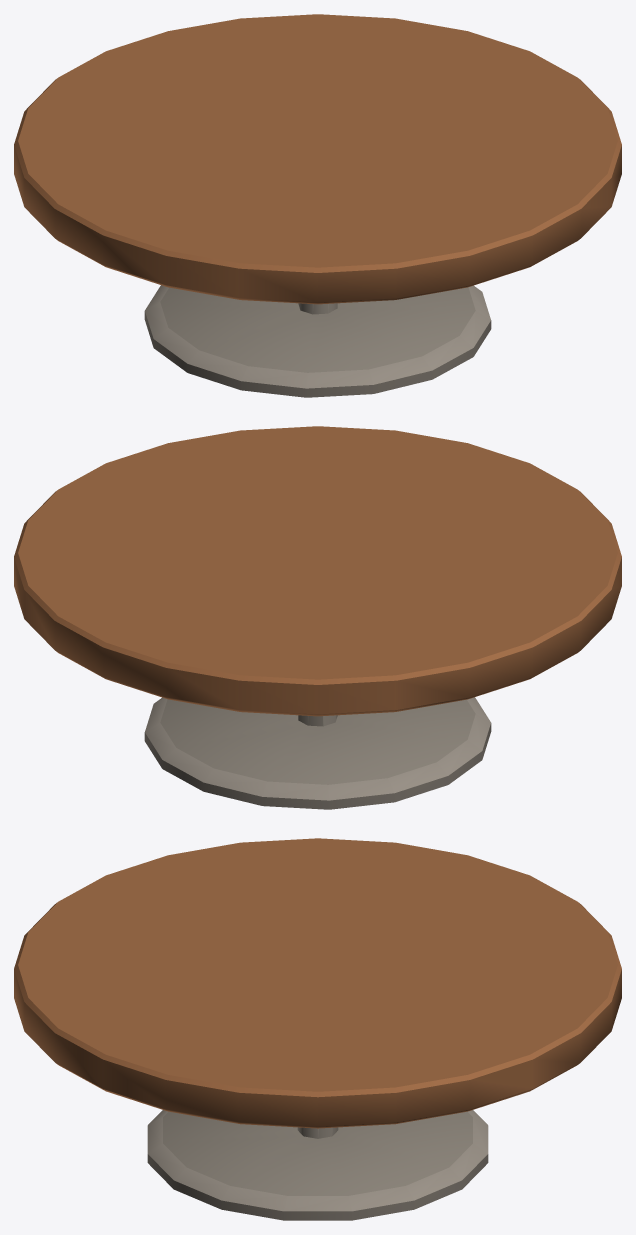
The model's file is kaykit_restaurant_table_round_a.glb.
The picture shows the model from 3 angles, top to bottom: view 1: azimuth 30°, elevation 25°; view 2: azimuth 150°, elevation 25°; view 3: azimuth 270°, elevation 25°; orthographic projection.
Parts seen in each view (by area): view 1: wood, stone; view 2: wood, stone; view 3: wood, stone.
Boxes of the visible parts, x1,y1,x2,y2 form: wood: (14,14,621,304); stone: (144,285,491,397); wood: (14,426,621,716); stone: (144,697,491,809); wood: (14,838,621,1128); stone: (147,1110,488,1220).
Bounding box in the file's own units: 3 × 1 × 3.
